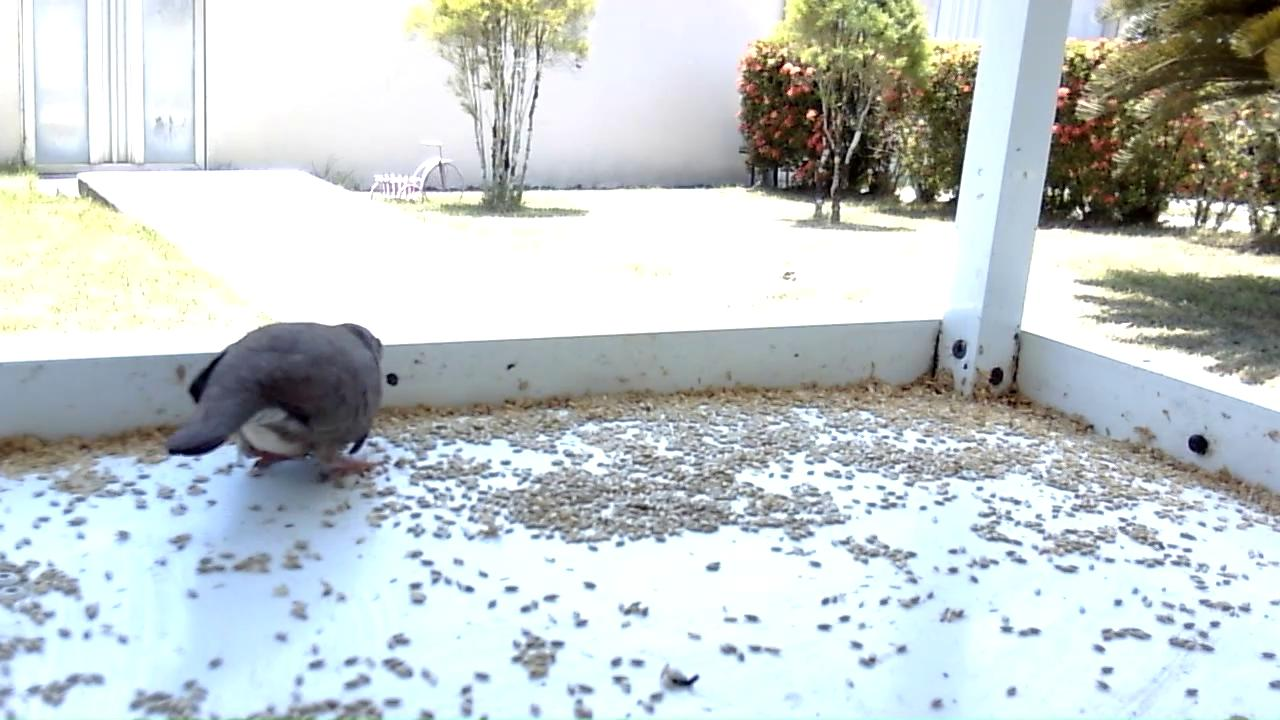rolinha: (165, 318, 393, 484)
